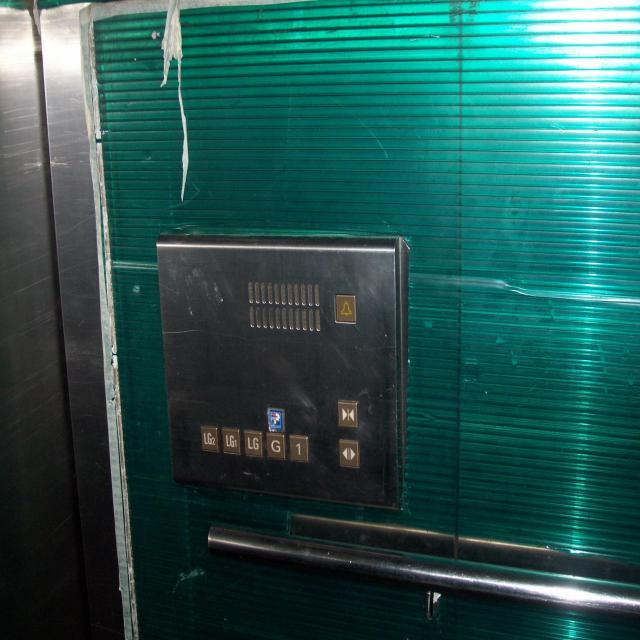1: (287, 433, 310, 463)
G: (264, 430, 286, 460)
LG: (242, 428, 264, 459)
LG1: (220, 425, 242, 456)
LG2: (198, 424, 220, 454)
alarm: (332, 292, 357, 324)
close: (336, 398, 359, 431)
open: (336, 436, 361, 470)
